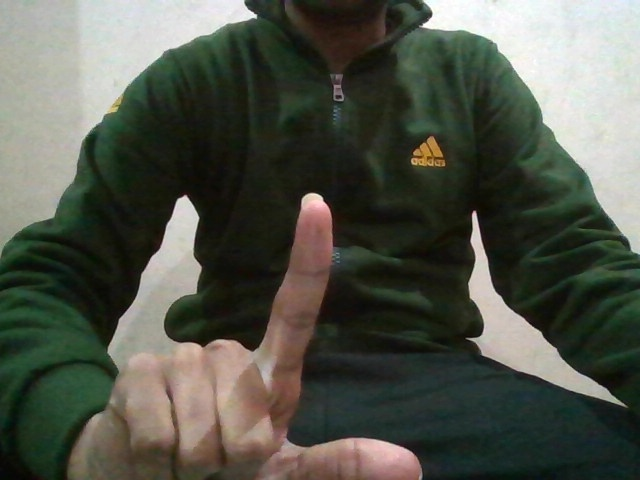L: (100, 192, 449, 480)
